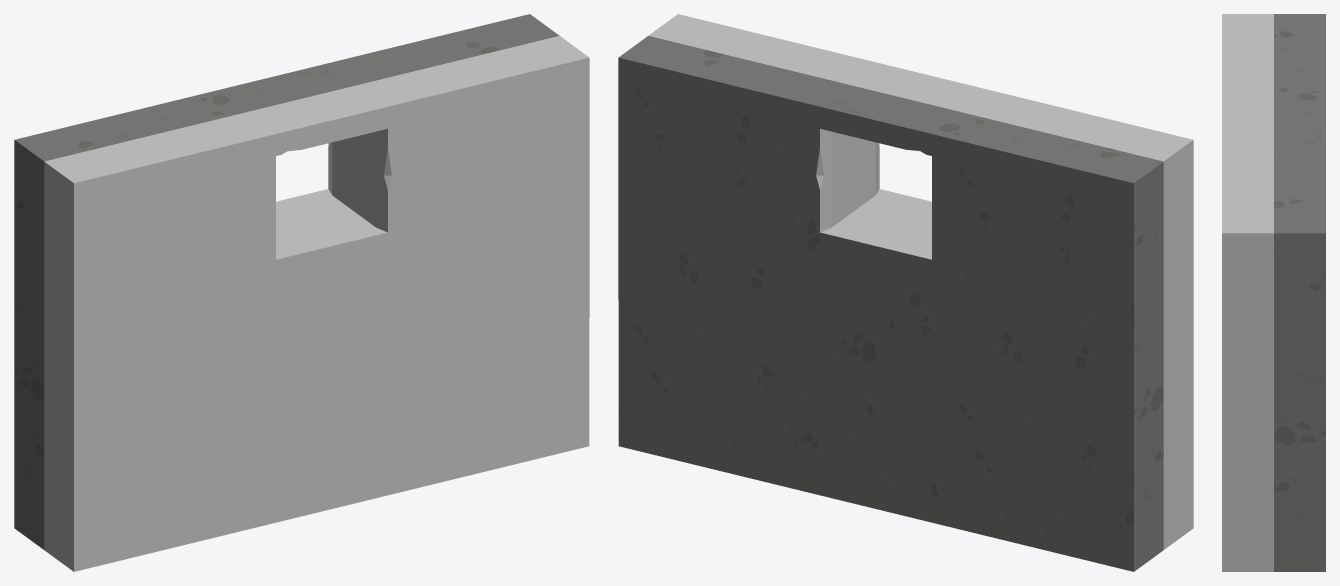
Rendered from SM_Bld_Grandstand_Wall_Doorway_02.fbx.
The picture shows the model from 3 angles, left to right: view 1: azimuth 30°, elevation 25°; view 2: azimuth 150°, elevation 25°; view 3: azimuth 270°, elevation 25°; orthographic projection. The views are drawn at different scales.
Visible parts, largest first — view 1: SM_Bld_Grandstand_Wall_Doorway_02; view 2: SM_Bld_Grandstand_Wall_Doorway_02; view 3: SM_Bld_Grandstand_Wall_Doorway_02.
Boxes of the visible parts, <box> form: SM_Bld_Grandstand_Wall_Doorway_02: <box>14,14,589,571</box>; SM_Bld_Grandstand_Wall_Doorway_02: <box>618,14,1193,571</box>; SM_Bld_Grandstand_Wall_Doorway_02: <box>1222,14,1325,571</box>.
Size of the model in its own units: 1250 by 901 by 250.
